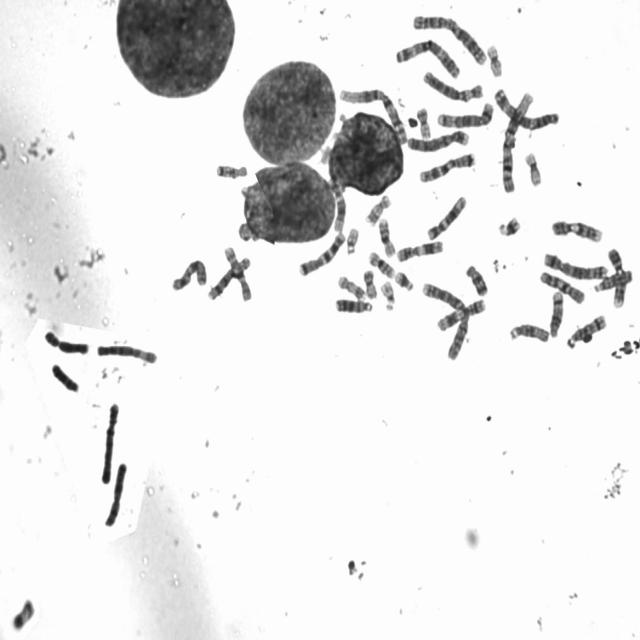A1: (336, 81, 410, 145), (498, 86, 537, 194)
A2: (410, 8, 490, 66), (418, 277, 472, 362)
A3: (491, 82, 562, 131), (393, 32, 463, 80)
B4: (98, 396, 122, 484), (404, 125, 472, 154)
B5: (541, 247, 611, 280), (434, 96, 496, 129)
C10: (536, 266, 588, 306), (221, 240, 254, 302)
C11: (434, 294, 489, 332), (394, 235, 446, 263)
C12: (424, 190, 470, 240), (323, 174, 350, 236)
C6: (420, 65, 487, 103), (94, 338, 160, 366)
C7: (296, 226, 348, 278), (416, 146, 478, 184)
C8: (205, 250, 253, 301), (41, 325, 92, 356)
C9: (548, 214, 606, 244), (604, 242, 629, 308)
D13: (591, 264, 636, 293), (333, 293, 375, 315)
D14: (564, 309, 610, 350), (547, 286, 566, 338)
D15: (591, 264, 636, 293), (507, 317, 552, 344)
E16: (365, 245, 398, 279), (376, 213, 398, 258)
E17: (363, 190, 393, 227), (335, 270, 369, 300)
E18: (462, 259, 491, 297), (214, 158, 250, 181)
F19: (521, 146, 545, 187), (484, 38, 506, 78)
F20: (414, 102, 434, 140), (361, 265, 380, 299)
G21: (495, 210, 524, 238), (392, 266, 417, 292)
G22: (378, 276, 397, 312), (343, 222, 362, 256)
X: (101, 457, 130, 528), (169, 253, 210, 292)
